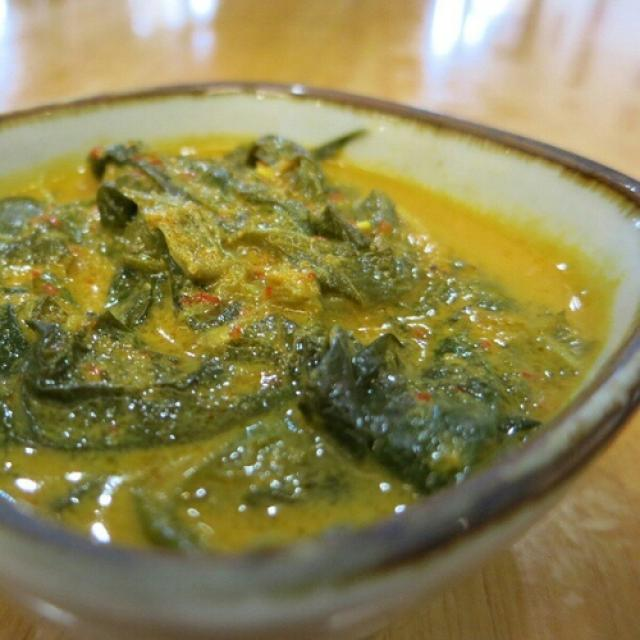熟制海鲜: (9, 48, 627, 602)
